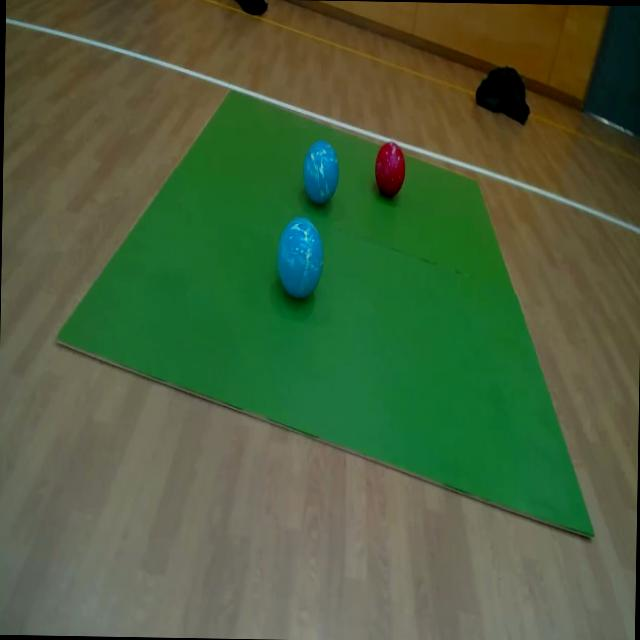blue_ball: (276, 215, 324, 302), (302, 134, 338, 208)
red_ball: (373, 138, 406, 202)
